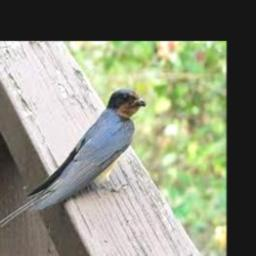Swallow: (0, 87, 146, 228)
